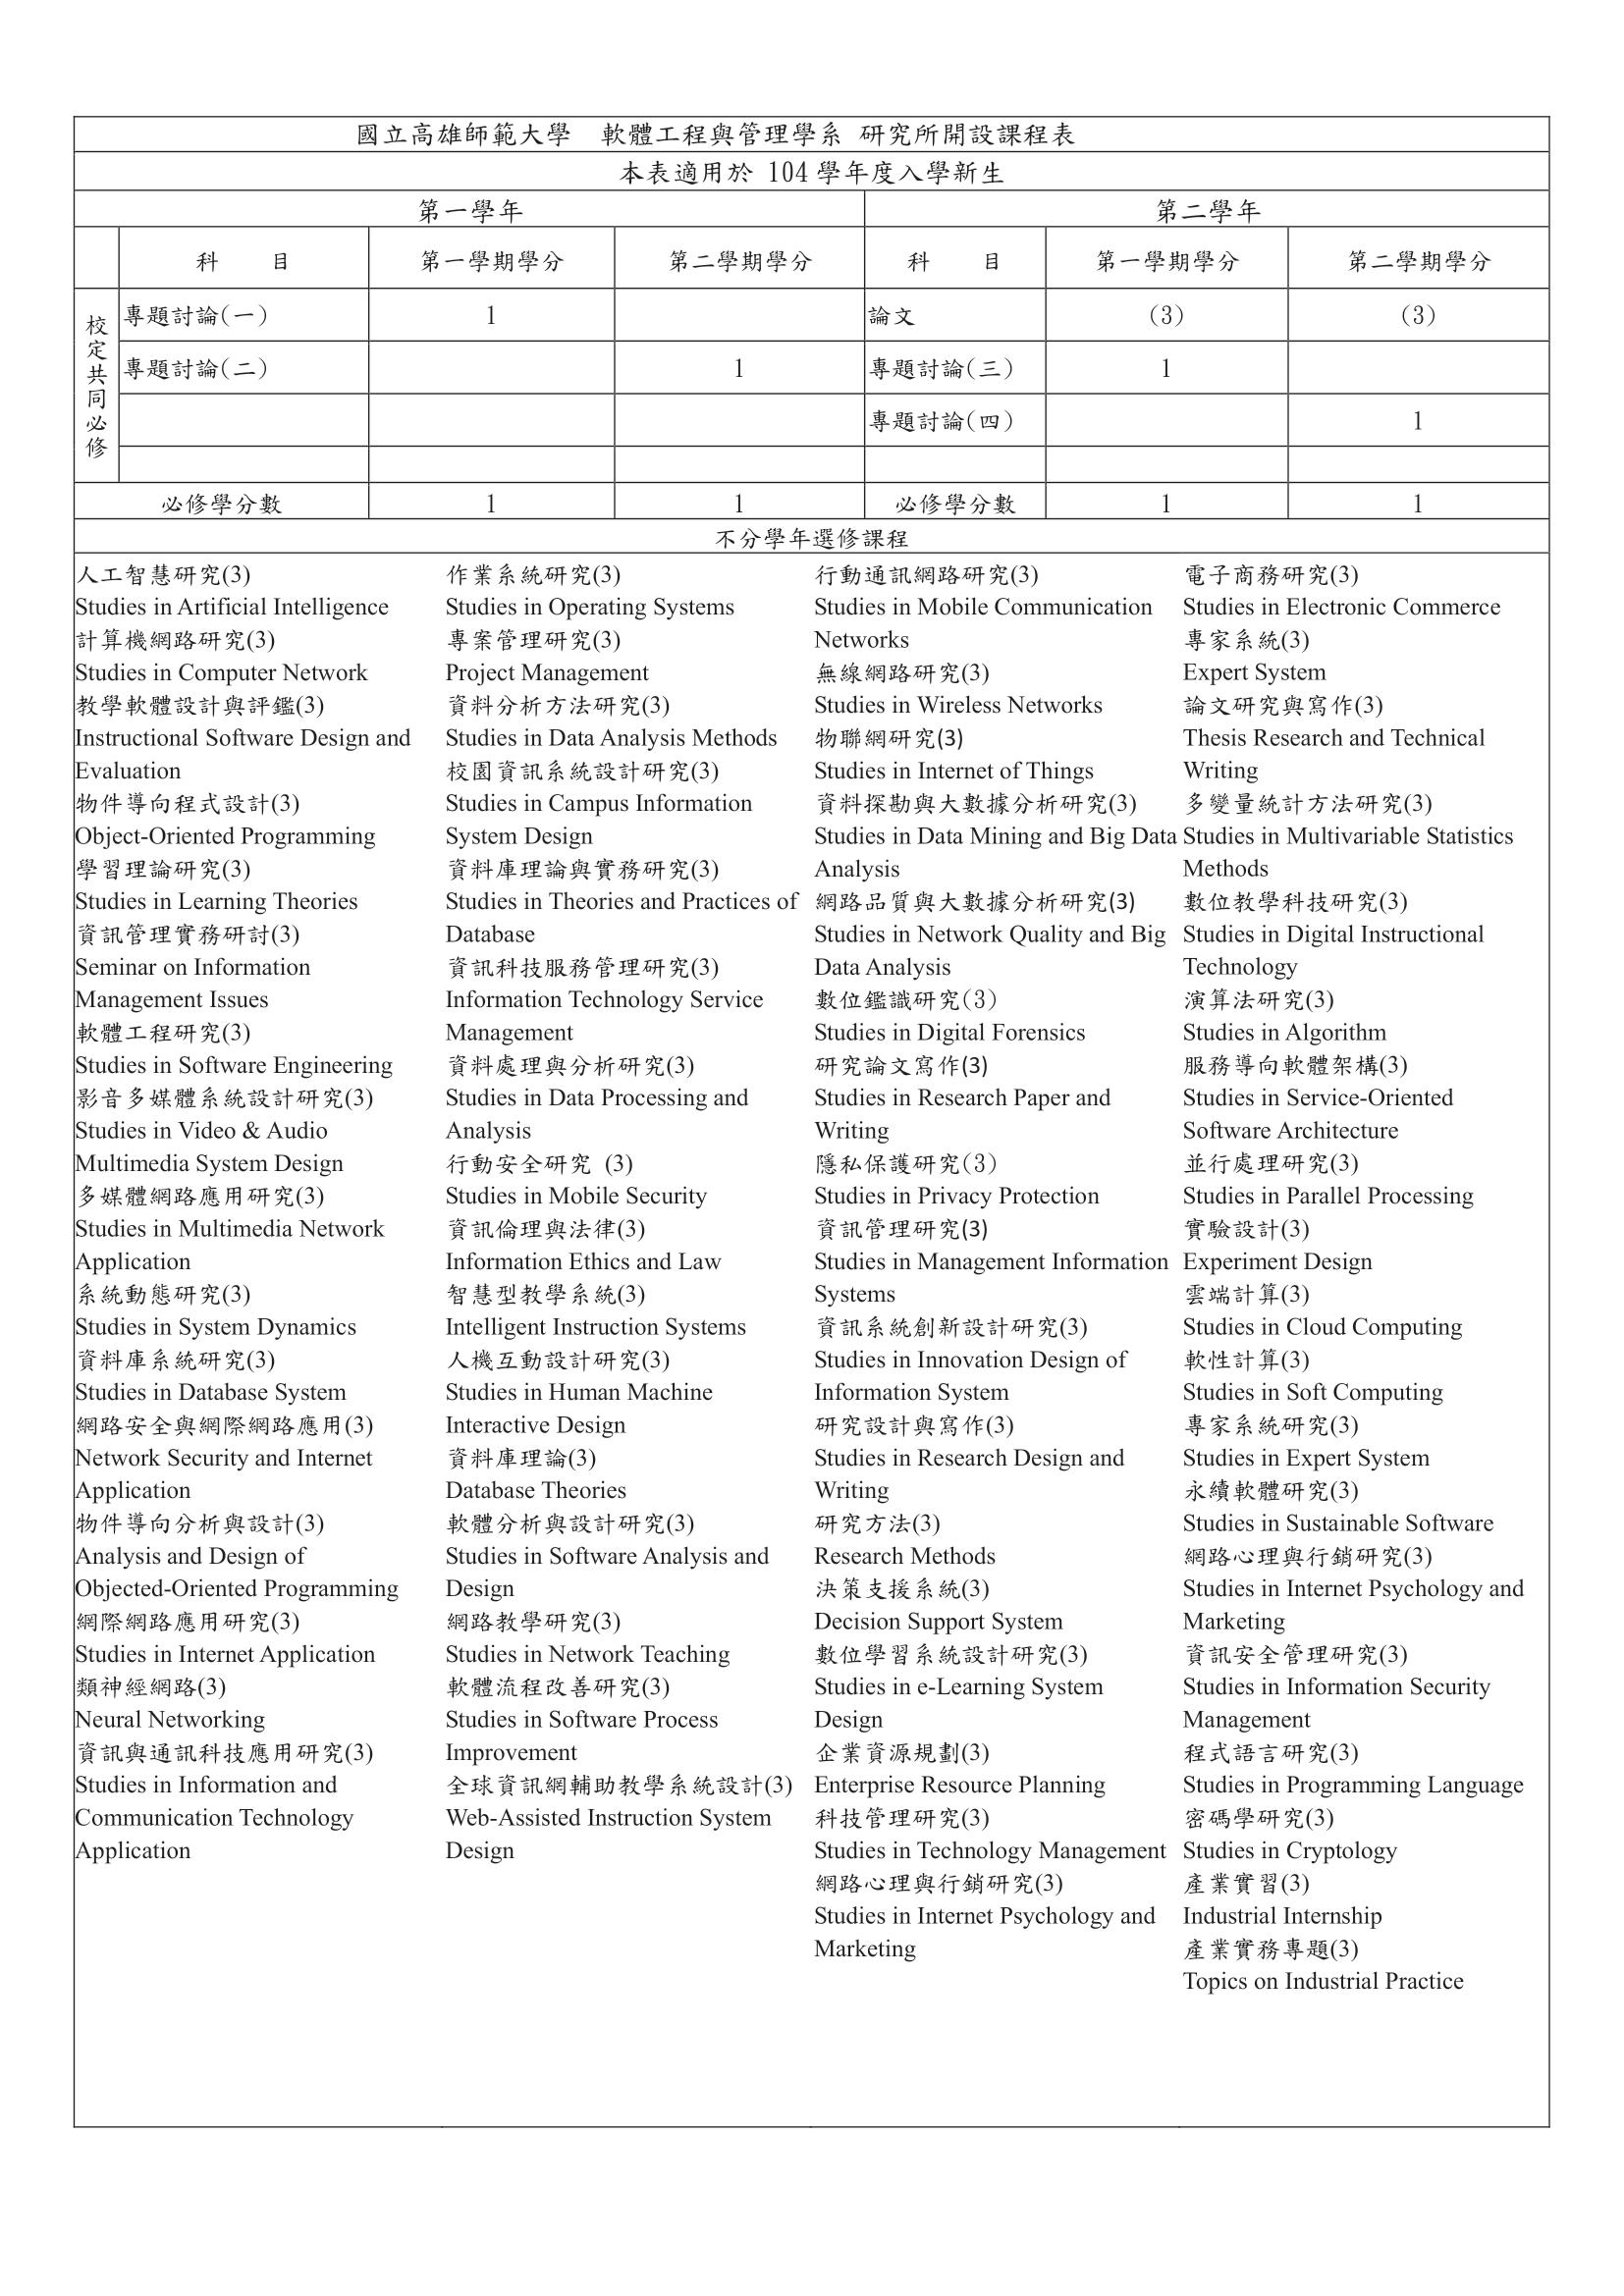table: (56, 98, 1578, 2175)
